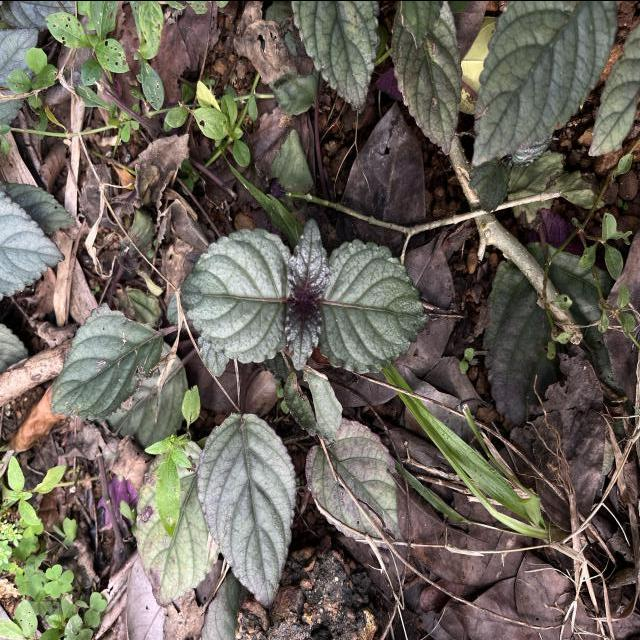Hemigraphis colorata: (468, 0, 622, 168), (195, 410, 299, 610), (178, 225, 292, 366), (321, 236, 434, 376), (48, 300, 167, 424), (388, 0, 465, 158), (288, 1, 382, 116), (0, 188, 68, 298), (285, 215, 331, 298), (282, 297, 324, 372)
